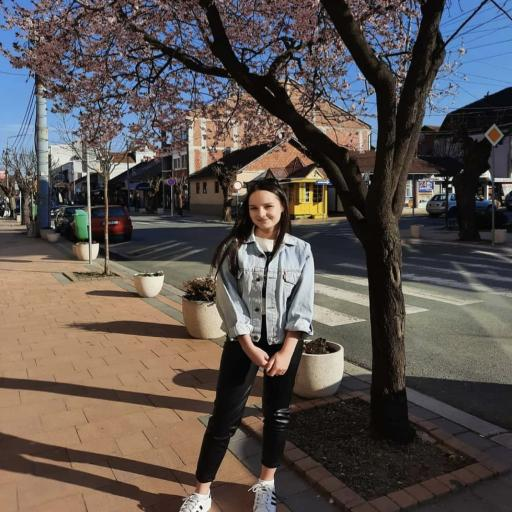marija: (244, 190, 287, 230)
